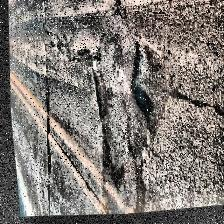pothole: (76, 10, 159, 218), (118, 29, 224, 153)
